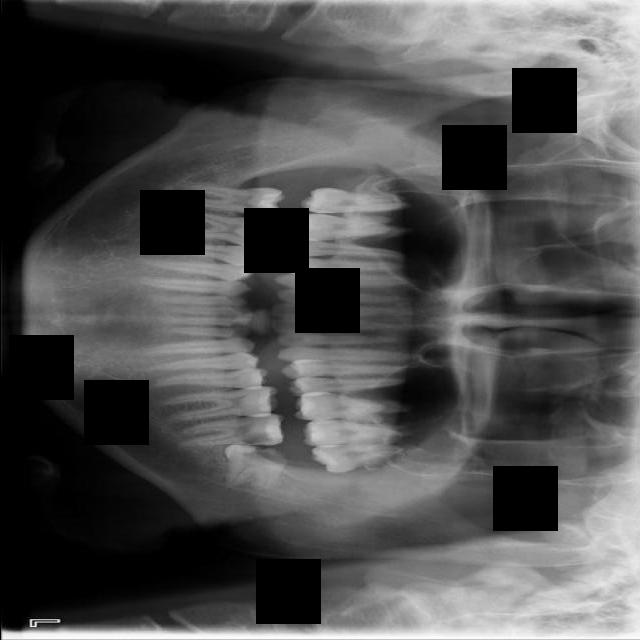52: (239, 184, 285, 221), (238, 413, 283, 446), (241, 447, 285, 466), (243, 434, 271, 445)
73: (39, 620, 53, 624)
BioHorizons Implant: (301, 414, 413, 448)
BioLife Implant: (310, 442, 405, 474)
Biomet 3i Implant: (217, 439, 288, 495)
Blue Sky Bio Implant: (177, 413, 284, 447)
Caries: (300, 188, 410, 213)
Implant: (171, 181, 284, 220)
